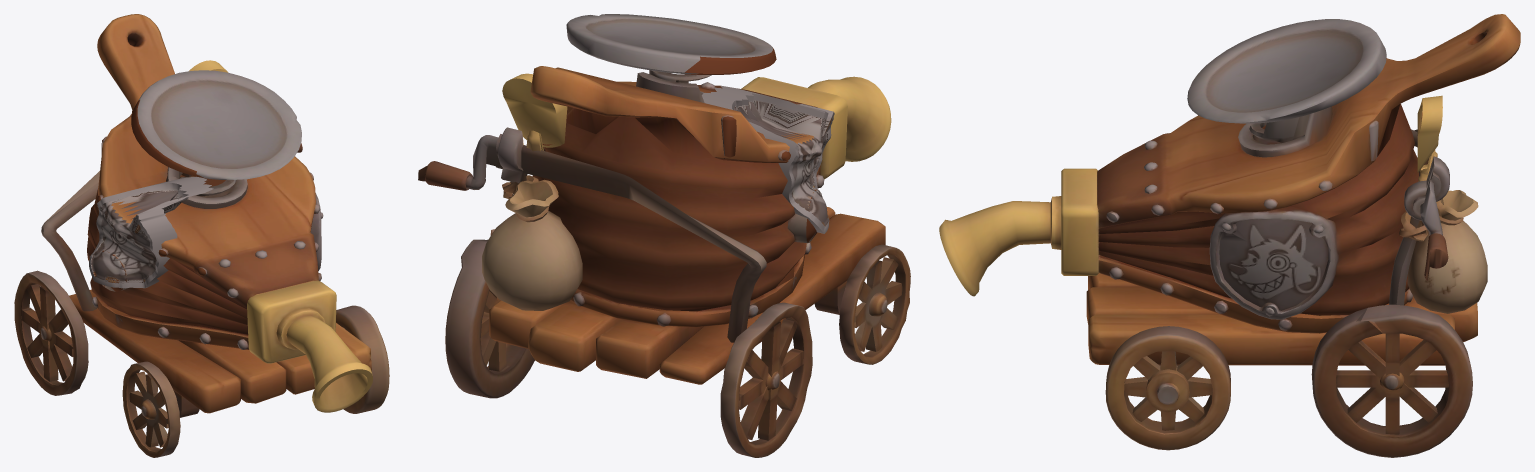
The model's file is bellows_machine_v5_busted.glb.
The picture shows the model from 3 angles, left to right: view 1: azimuth 30°, elevation 25°; view 2: azimuth 150°, elevation 25°; view 3: azimuth 270°, elevation 25°; orthographic projection. The views are drawn at different scales.
Parts seen in each view (by area): view 1: bellows_machine_v2; view 2: bellows_machine_v2; view 3: bellows_machine_v2.
Boxes of the visible parts, x1,y1,x2,y2 form: bellows_machine_v2: [14, 14, 389, 457]; bellows_machine_v2: [418, 14, 910, 457]; bellows_machine_v2: [939, 14, 1520, 457].
Bounding box in the file's own units: 2.96 × 3.19 × 4.46.
1 material, 1 textured.
